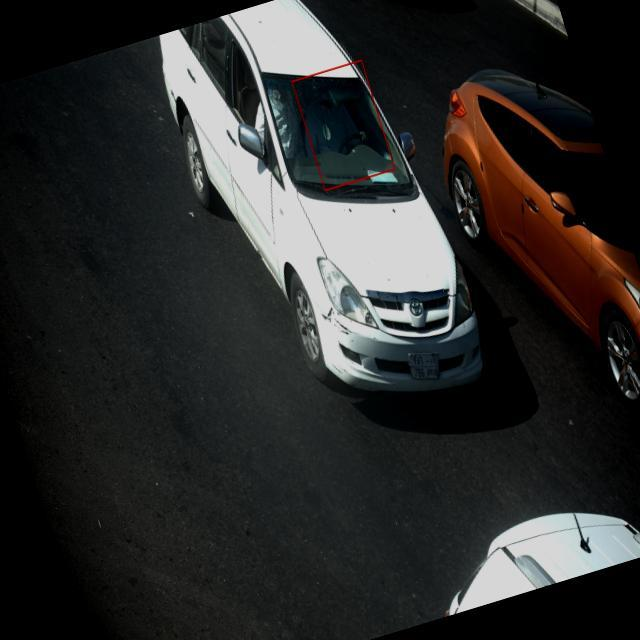windshield: (257, 66, 421, 205)
